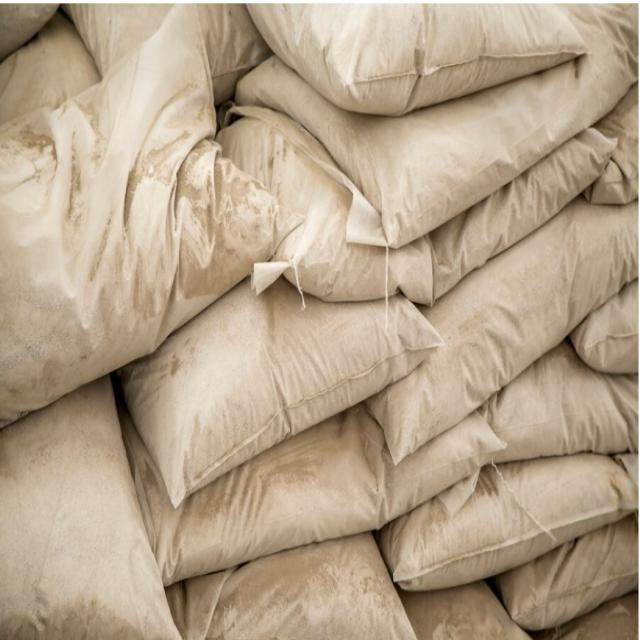KantongSemen: (1, 2, 298, 430), (229, 43, 639, 246), (138, 262, 439, 498), (1, 358, 190, 640), (241, 1, 593, 116)
